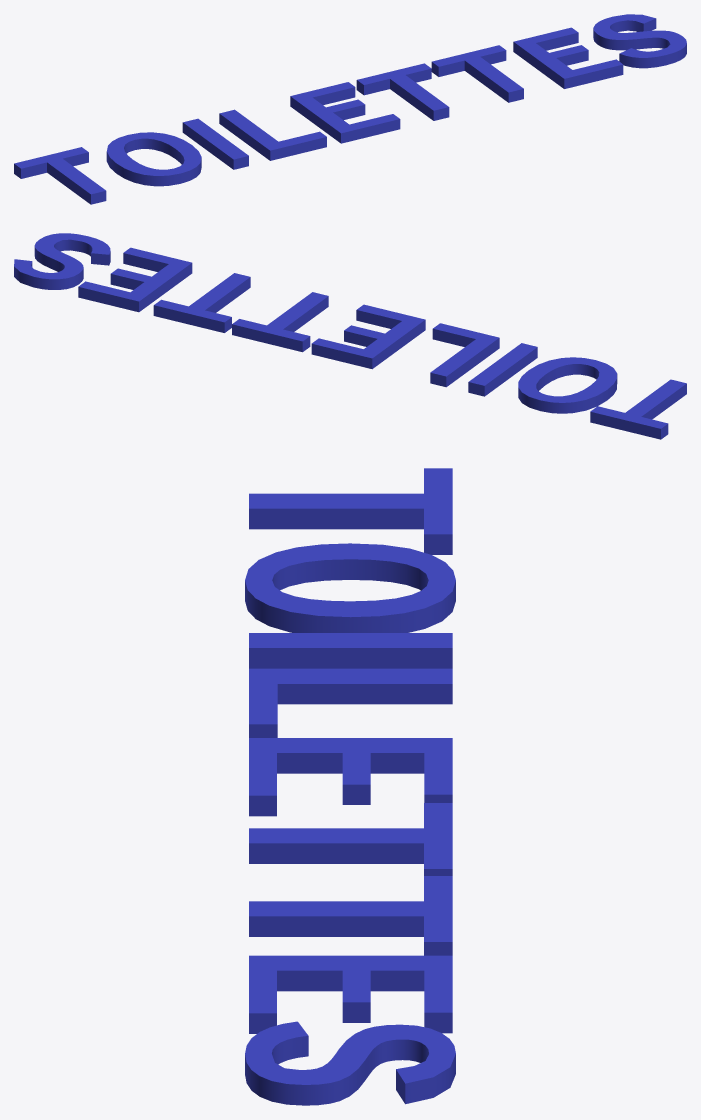
The model's file is toilettes.fbx.
The picture shows the model from 3 angles, top to bottom: view 1: azimuth 30°, elevation 25°; view 2: azimuth 150°, elevation 25°; view 3: azimuth 270°, elevation 25°; orthographic projection. The views are drawn at different scales.
Visible parts, largest first — view 1: node_id158; view 2: node_id158; view 3: node_id158.
Boxes of the visible parts, x1,y1,x2,y2 form: node_id158: (14,14,686,204); node_id158: (14,233,686,439); node_id158: (245,468,455,1105).
Bounding box in the file's own units: 1.2 × 0.0188 × 0.1738.
